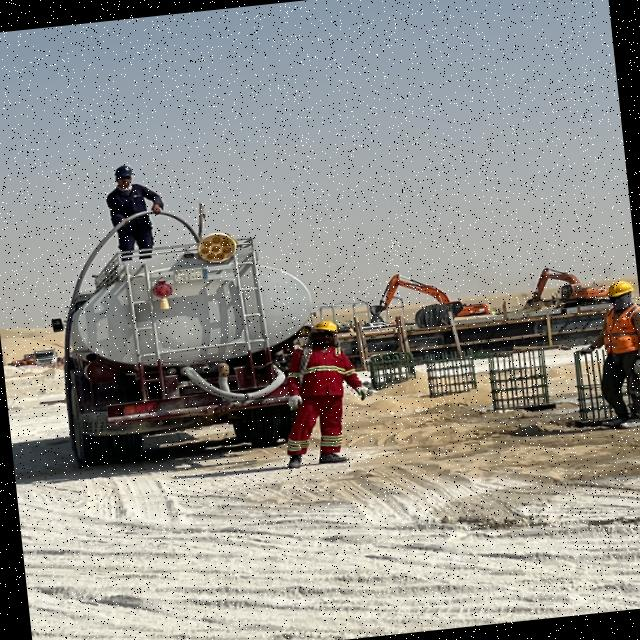Excavator: (364, 260, 491, 342), (518, 256, 609, 314)
